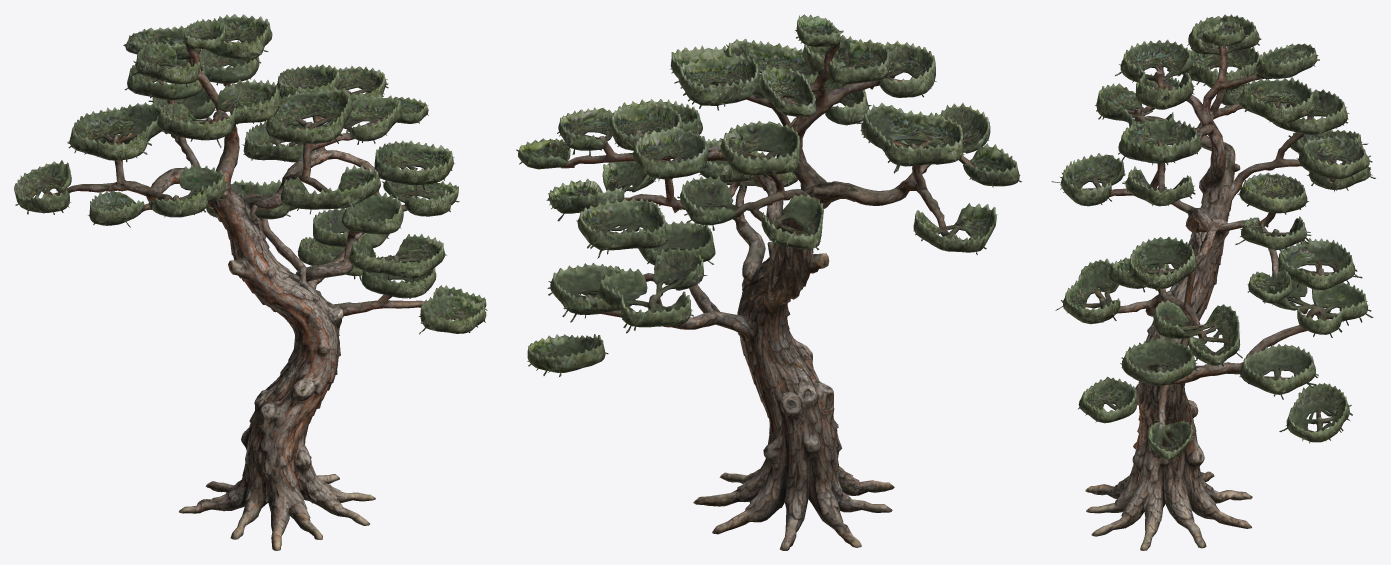
Rendered from BentPine.fbx.
3 renders of one model, left to right at view 1: azimuth 30°, elevation 25°; view 2: azimuth 150°, elevation 25°; view 3: azimuth 270°, elevation 25°, orthographic. The views are drawn at different scales.
Parts seen in each view (by area): view 1: BentPine_LOD0; view 2: BentPine_LOD0; view 3: BentPine_LOD0.
Boxes of the visible parts, left/top/right/bottom form: BentPine_LOD0: left=14, top=14, right=487, bottom=550; BentPine_LOD0: left=516, top=14, right=1021, bottom=550; BentPine_LOD0: left=1051, top=14, right=1375, bottom=550.
Size of what is drawn, in the model's own units: 596 by 640 by 405.
